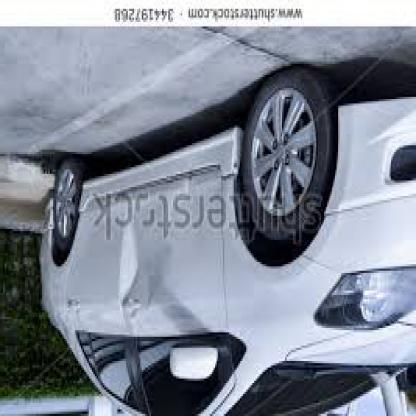dent: (111, 244, 152, 326)
